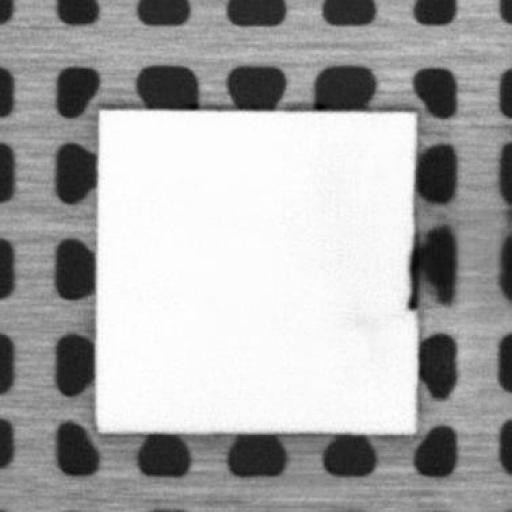DIE_BROKEN: (400, 235, 421, 313)
